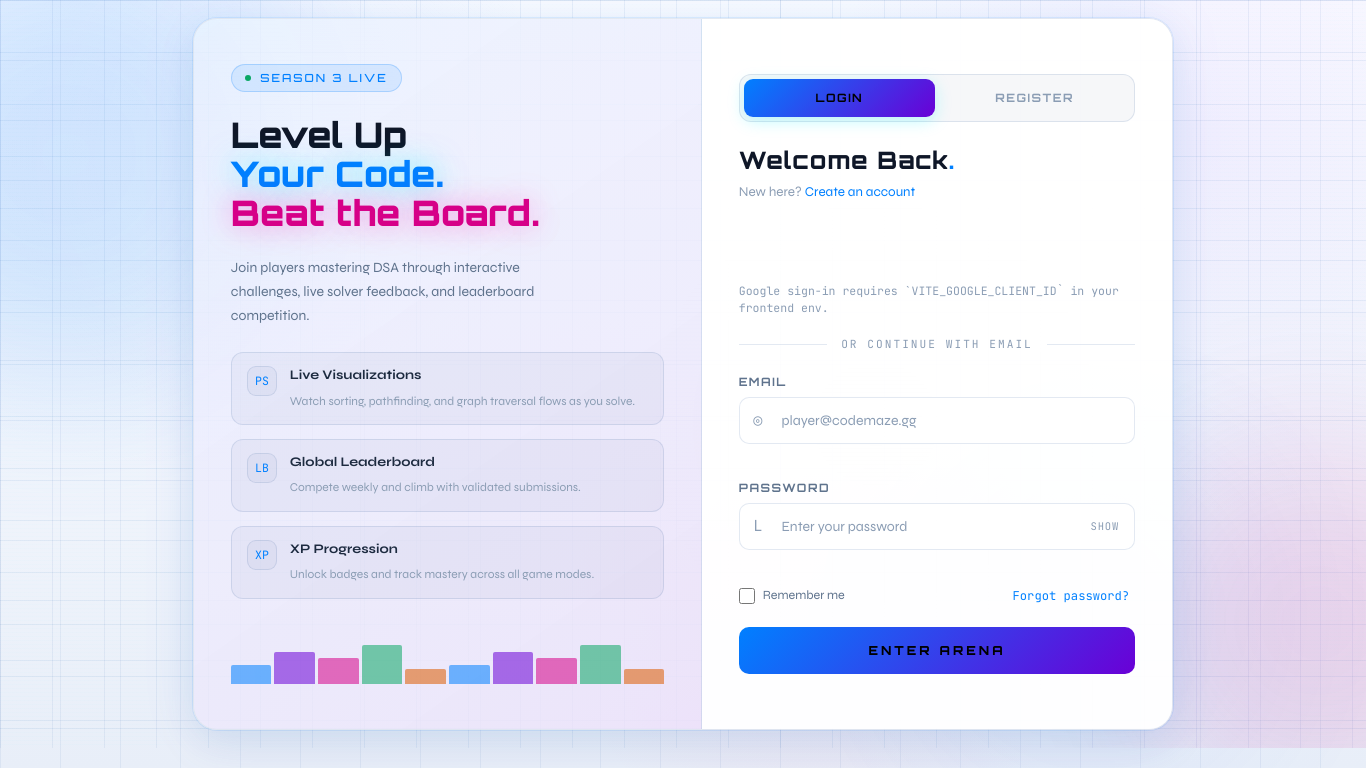
Test case: LoginPage › shows validation errors for empty and invalid fields
The image size is (1366, 768).
Click the button "Enter Arena" at (937,650), box [739,627,1135,674]
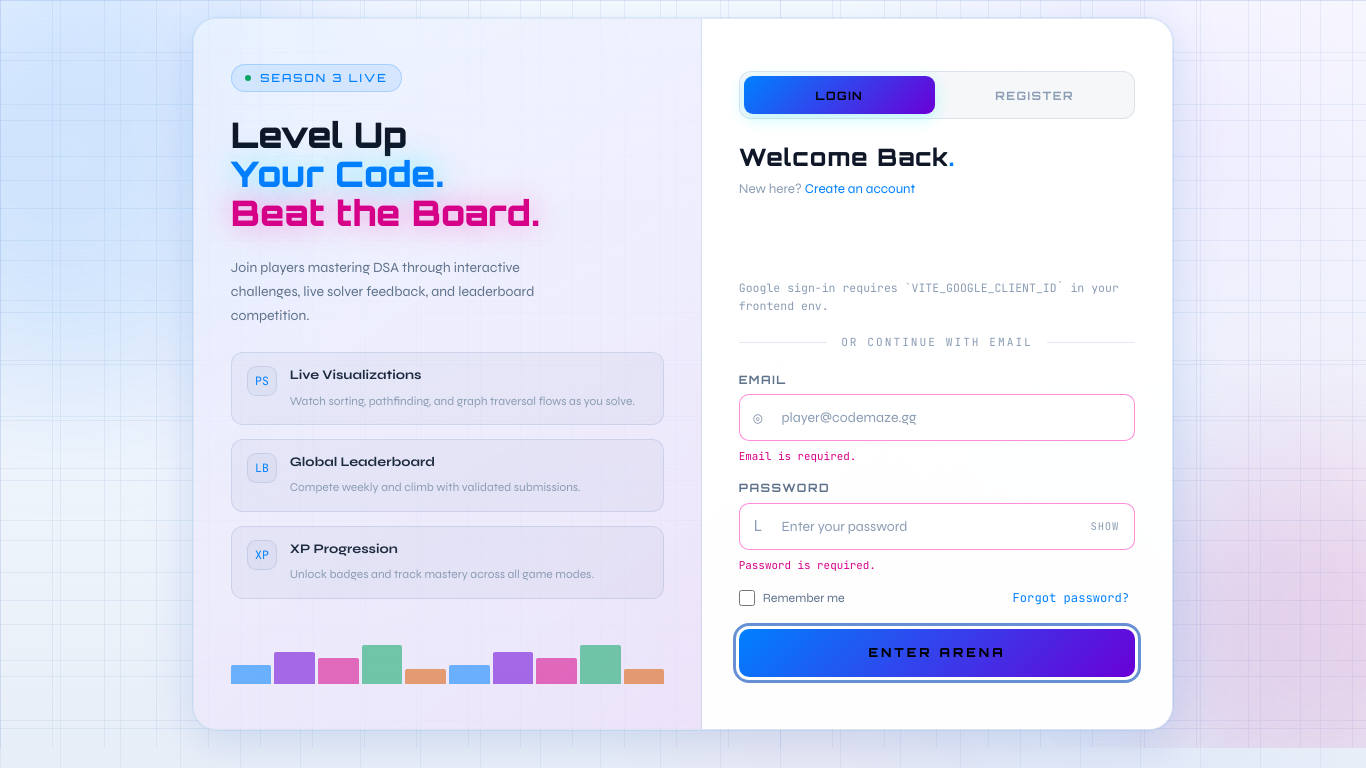
Result: the text "Email is required." is shown at [739,449,856,463]
Result: the text "Password is required." is shown at [739,558,876,572]
Type "invalid-email" into the field labelled "Email" at (937,418), box [739,394,1135,442]
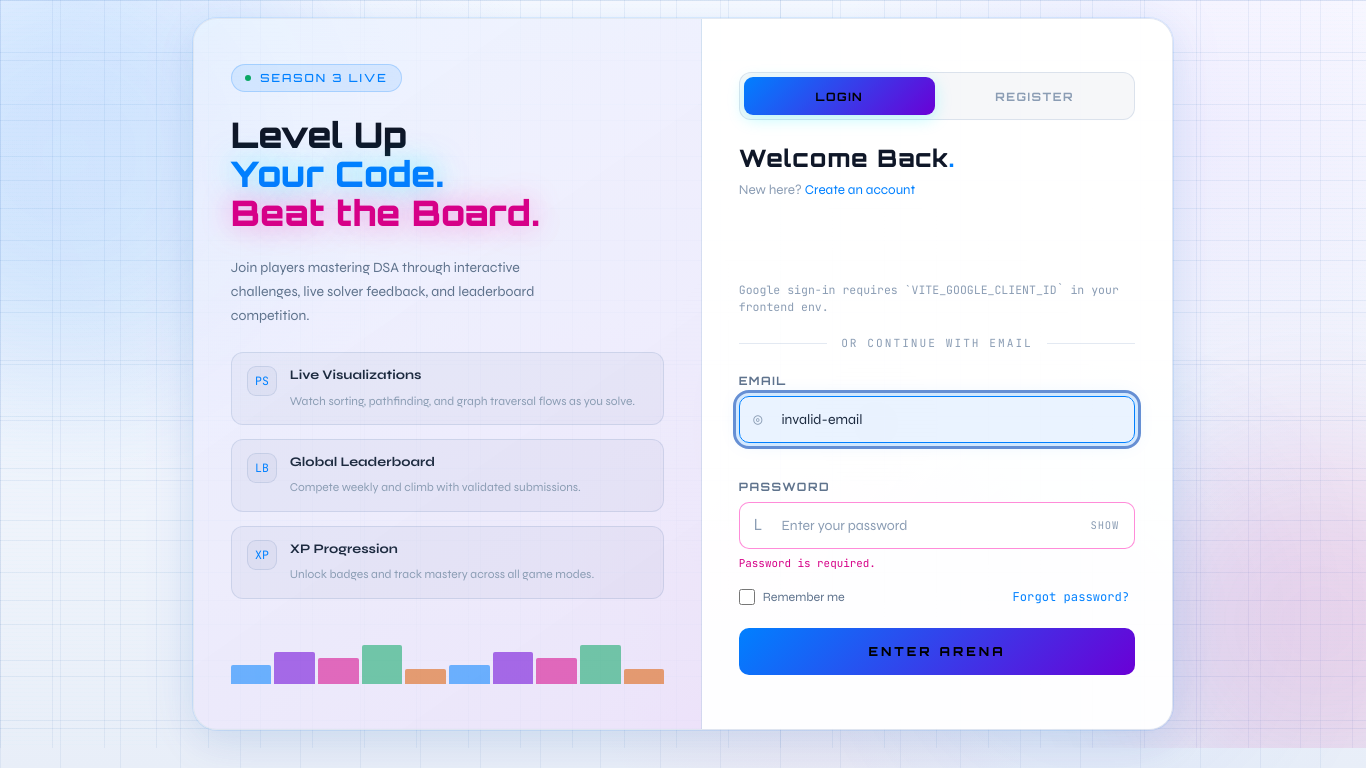
Type "pass" into the password field labelled "Password" at (937,525), box [739,502,1135,549]
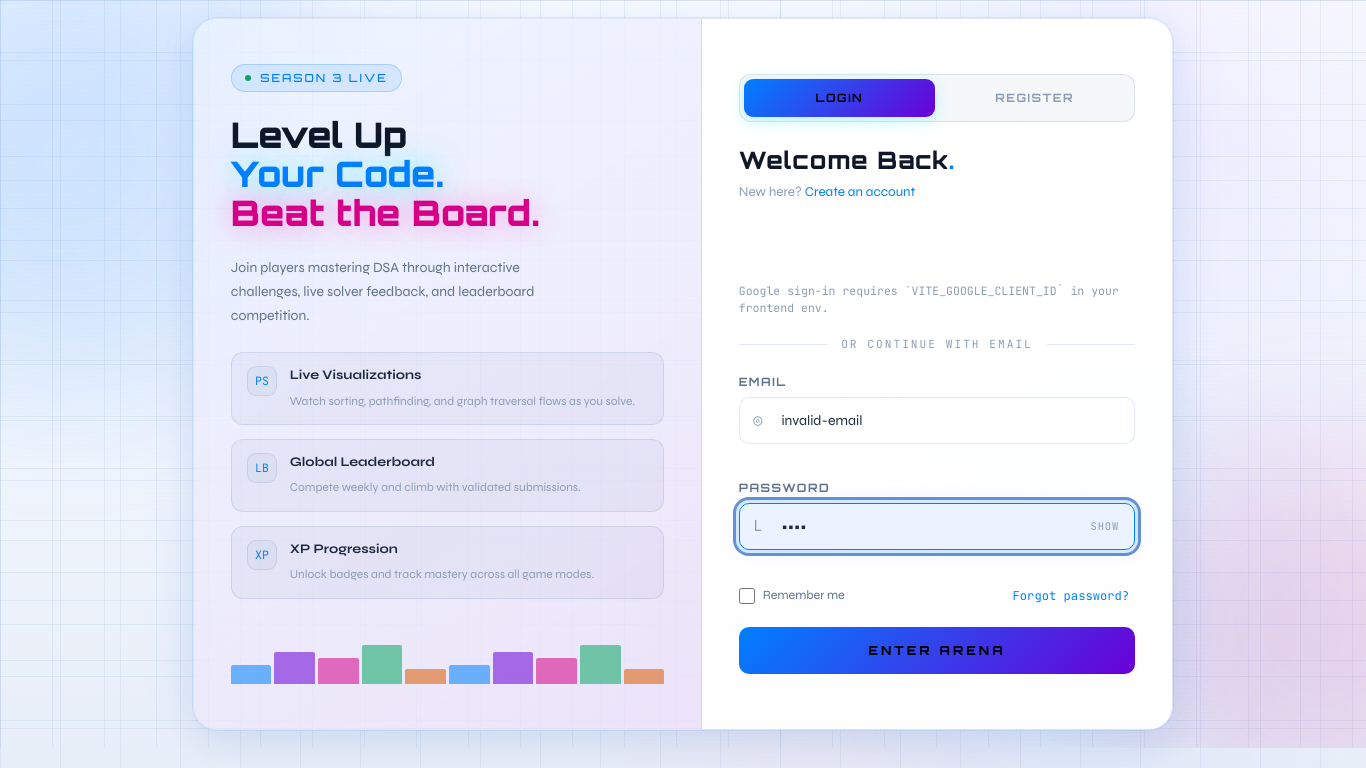
Click the button "Enter Arena" at (937,650), box [739,627,1135,674]
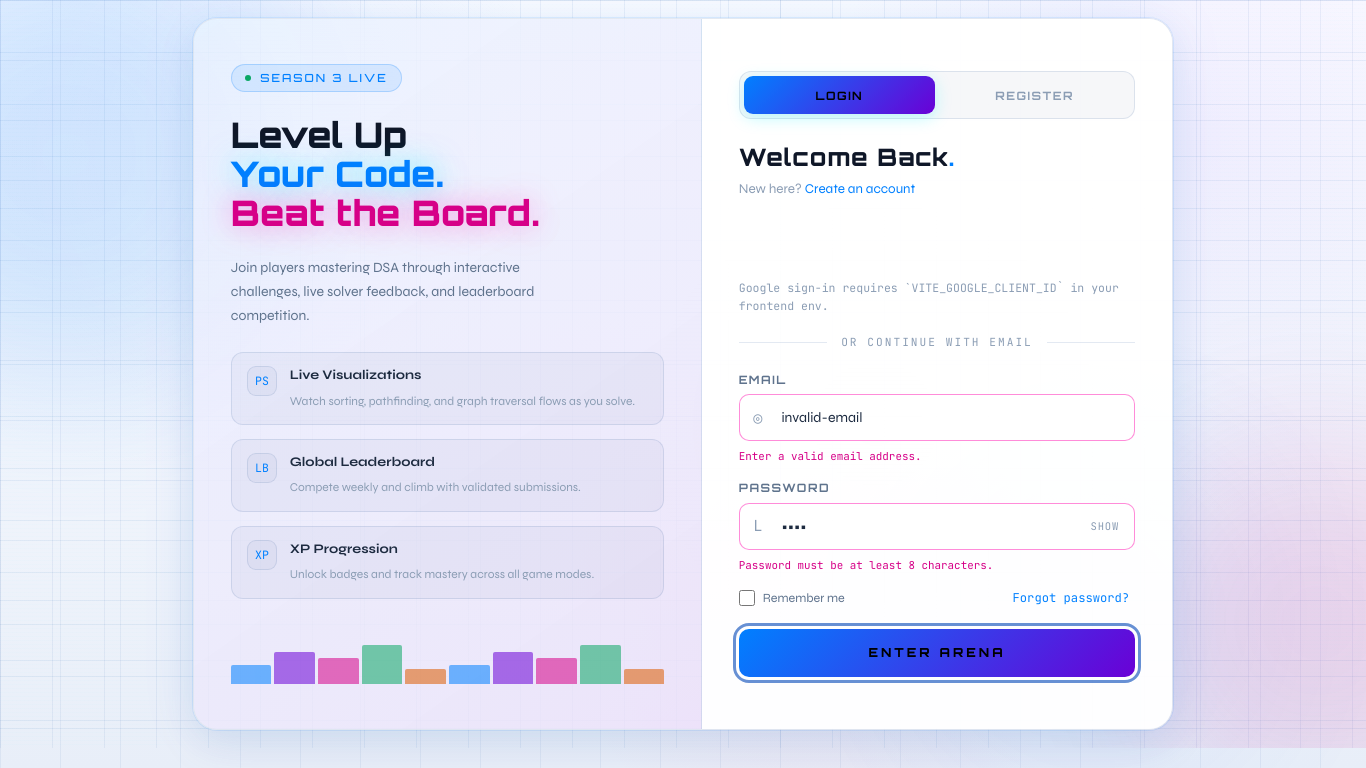
Result: the text "Enter a valid email address." is shown at [739,449,922,463]
Result: the text "Password must be at least 8 characters." is shown at [739,558,993,572]
